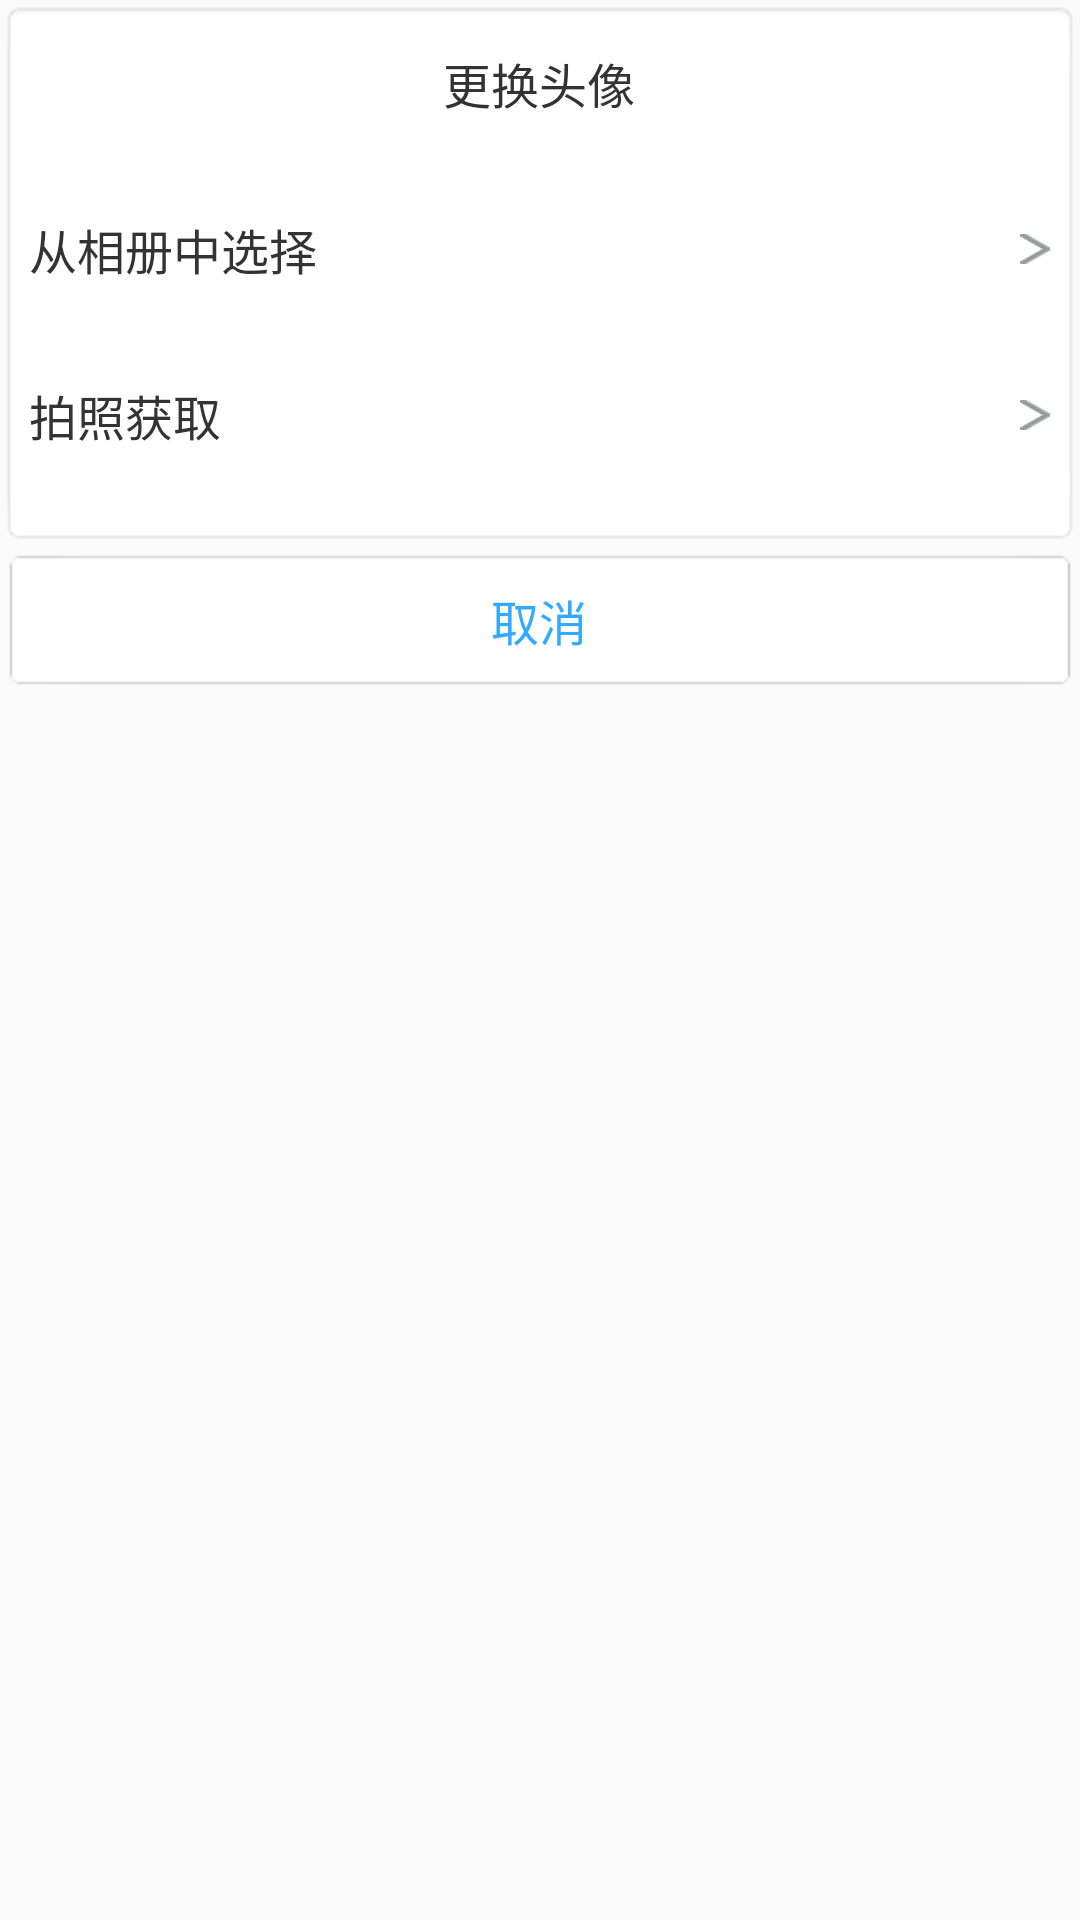

Icons on this 1080*1920 Android screen, each with its box as (x1, y1, x2, y2):
arrow right: (1020, 234, 1050, 264), (1020, 400, 1050, 430)
